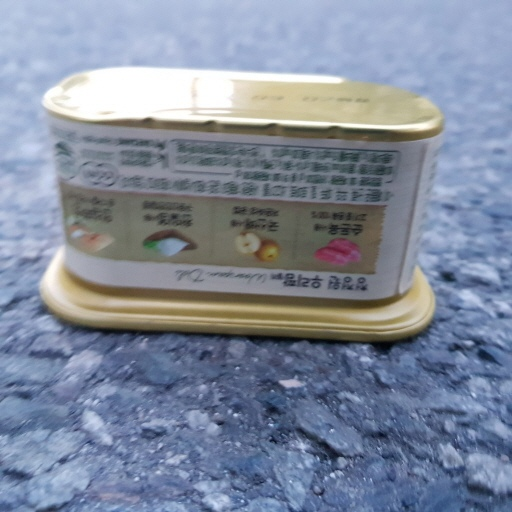Metal_2: (30, 64, 443, 349)
